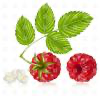Raspberry leaf: (58, 7, 93, 38), (15, 13, 36, 49), (35, 2, 56, 36), (45, 31, 73, 56)
